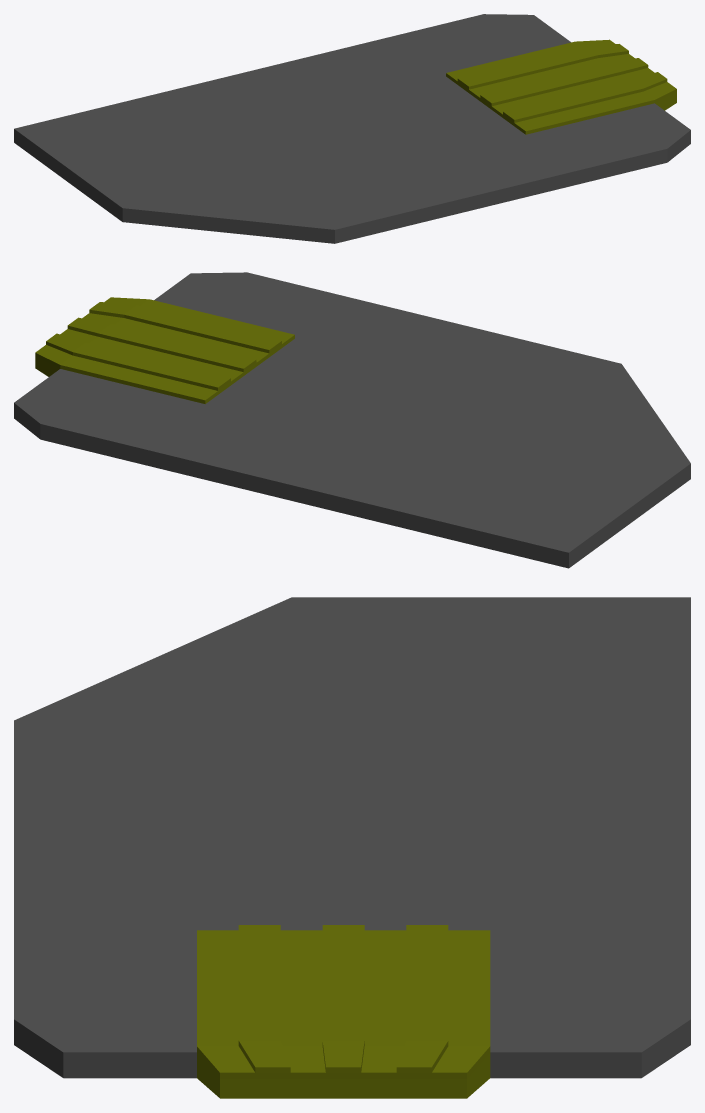
Rendered from KeyCard.fbx.
The picture shows the model from 3 angles, top to bottom: view 1: azimuth 30°, elevation 25°; view 2: azimuth 150°, elevation 25°; view 3: azimuth 270°, elevation 25°; orthographic projection. The views are drawn at different scales.
Visible parts, largest first — view 1: Plane; view 2: Plane; view 3: Plane.
Boxes of the visible parts, left/top/right/bottom form: Plane: left=14, top=14, right=690, bottom=243; Plane: left=14, top=272, right=690, bottom=568; Plane: left=14, top=597, right=690, bottom=1098.
Bounding box in the file's own units: 336 × 12.26 × 200.
